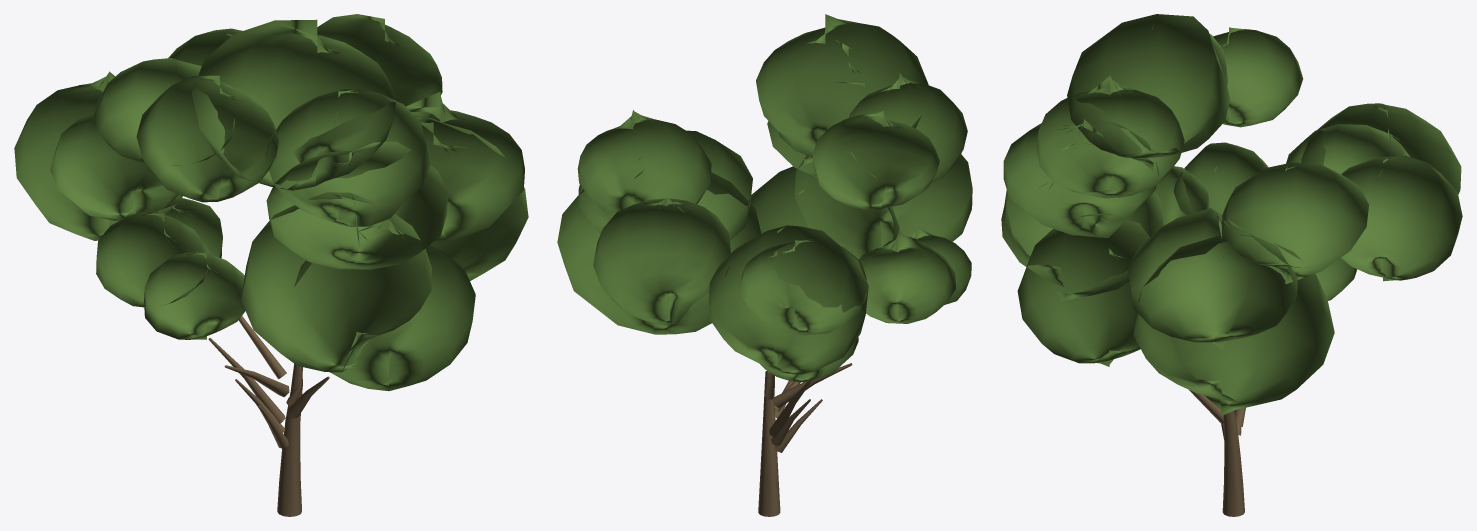
File: field_oak_a_lod0.glb
The picture shows the model from 3 angles, left to right: view 1: azimuth 30°, elevation 25°; view 2: azimuth 150°, elevation 25°; view 3: azimuth 270°, elevation 25°; orthographic projection. The views are drawn at different scales.
Visible parts, largest first — view 1: foliage, bark; view 2: foliage, bark; view 3: foliage, bark.
Part boxes in pixels (x1,y1,x2,y2): foliage: [14, 14, 528, 391]; bark: [208, 316, 329, 516]; foliage: [557, 14, 972, 382]; bark: [758, 363, 852, 516]; foliage: [1001, 14, 1462, 415]; bark: [1189, 390, 1245, 516].
Bounding box in the file's own units: 6.55 × 7.96 × 6.99.
